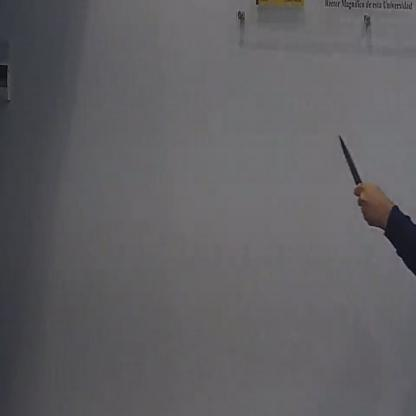knife: (336, 124, 378, 232)
